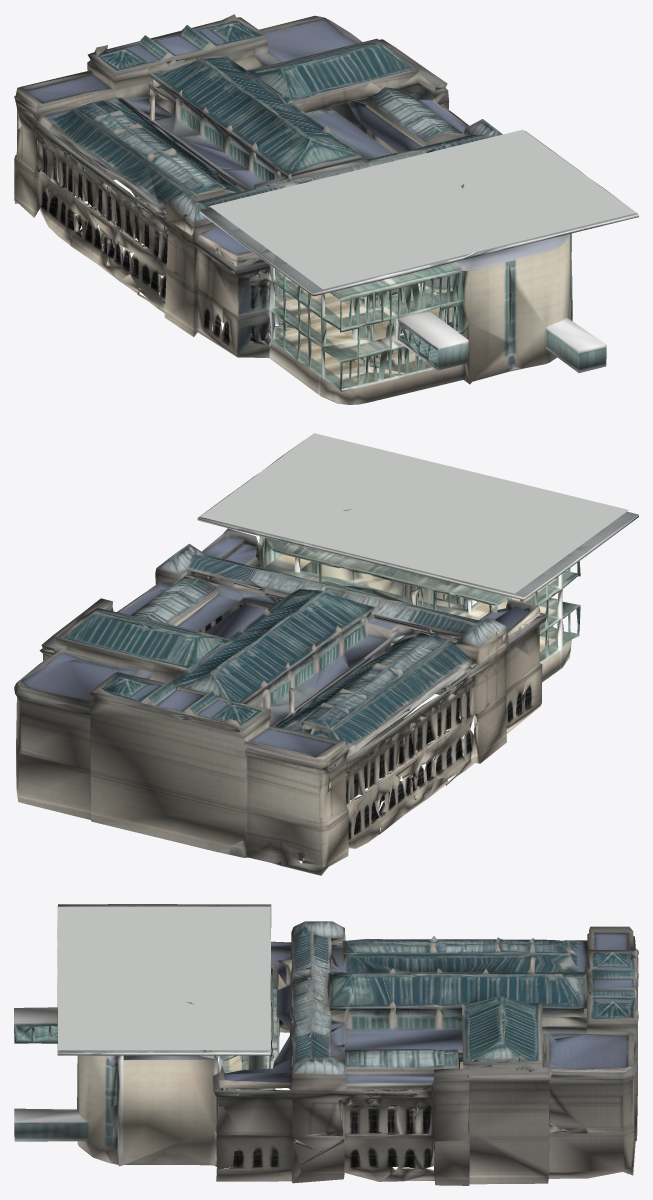
The model's file is art_institute_rear.glb.
3 views of the same model, one above another, from view 1: azimuth 30°, elevation 25°; view 2: azimuth 150°, elevation 25°; view 3: azimuth 270°, elevation 25° (orthographic). The views are drawn at different scales.
Parts seen in each view (by area): view 1: art_institute_rear; view 2: art_institute_rear; view 3: art_institute_rear.
Part boxes in pixels (x1,y1,x2,y2): art_institute_rear: [14, 14, 638, 404]; art_institute_rear: [14, 433, 638, 875]; art_institute_rear: [14, 904, 638, 1185].
Bounding box in the file's own units: 61.15 × 24.91 × 105.
1 material, 1 textured.
